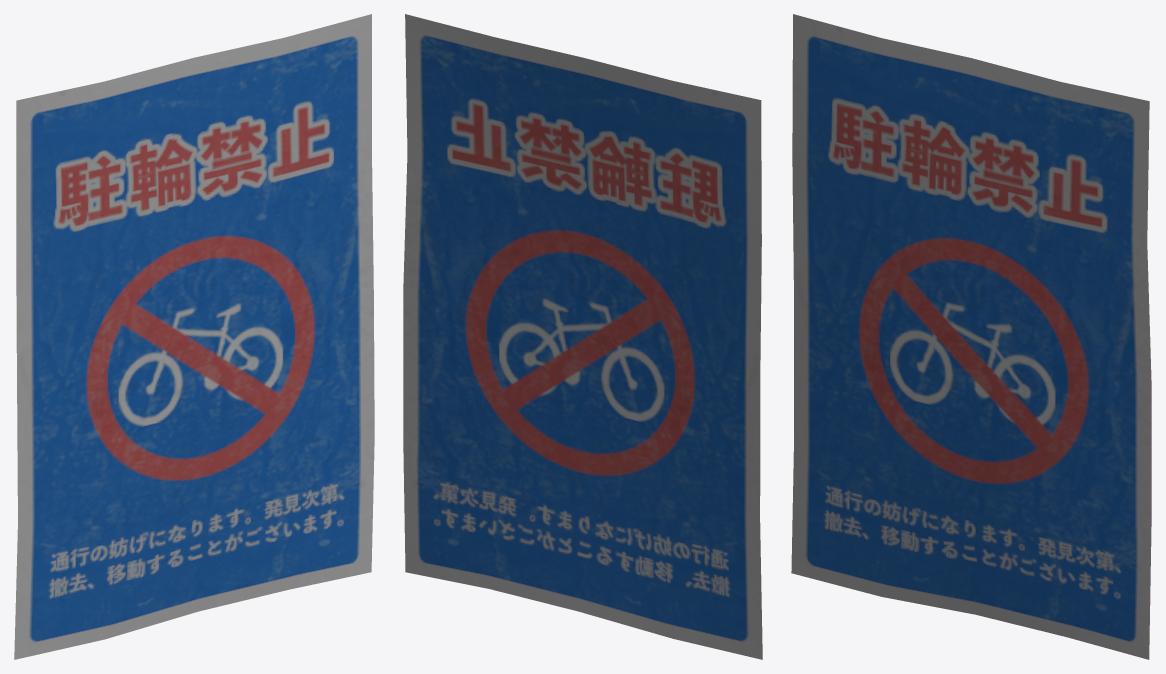
Rendered from posterA.fbx.
3 views of the same model, side by side, from view 1: azimuth 30°, elevation 25°; view 2: azimuth 150°, elevation 25°; view 3: azimuth 330°, elevation 25° (orthographic).
Visible parts, largest first — view 1: posterA; view 2: posterA; view 3: posterA.
Part boxes in pixels (x1,y1,x2,y2): posterA: (14, 14, 374, 659); posterA: (403, 14, 762, 659); posterA: (791, 14, 1151, 659).
Bounding box in the file's own units: 20.27 × 30.14 × 0.3844.
Materials: 1 (1 with a texture image).
